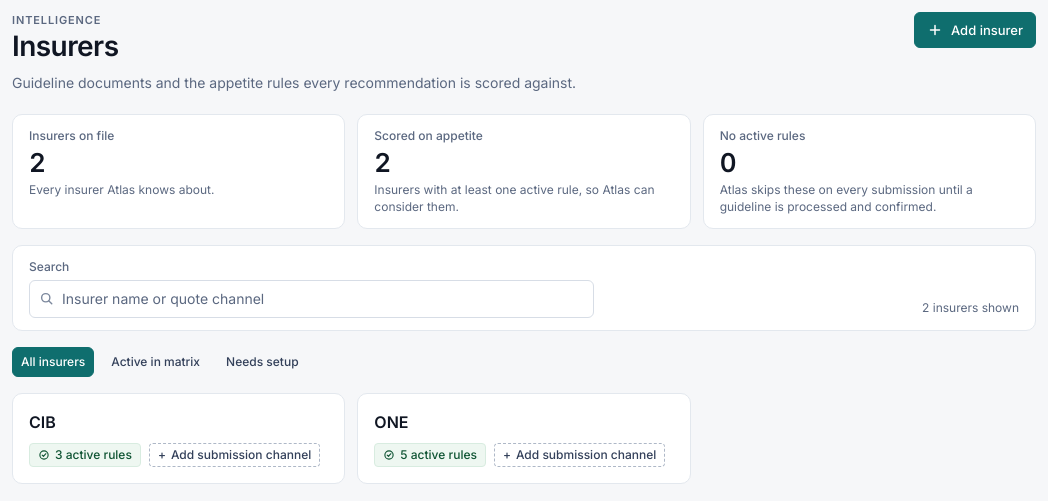
Scenario: Insurer index workbench › composes coverage and search
Check: the text "CIB" is shown, box [29,410,56,435]
Click the button "Active in matrix" at (156, 362), box [102,347,209,377]
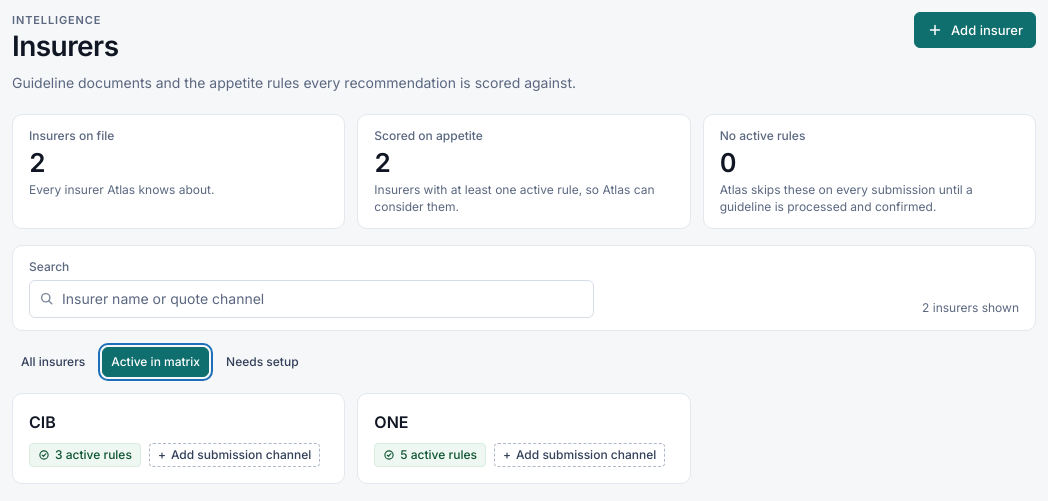
Type "ONE" into the search field named "Search insurers" at (311, 299), box [29,280,594,318]
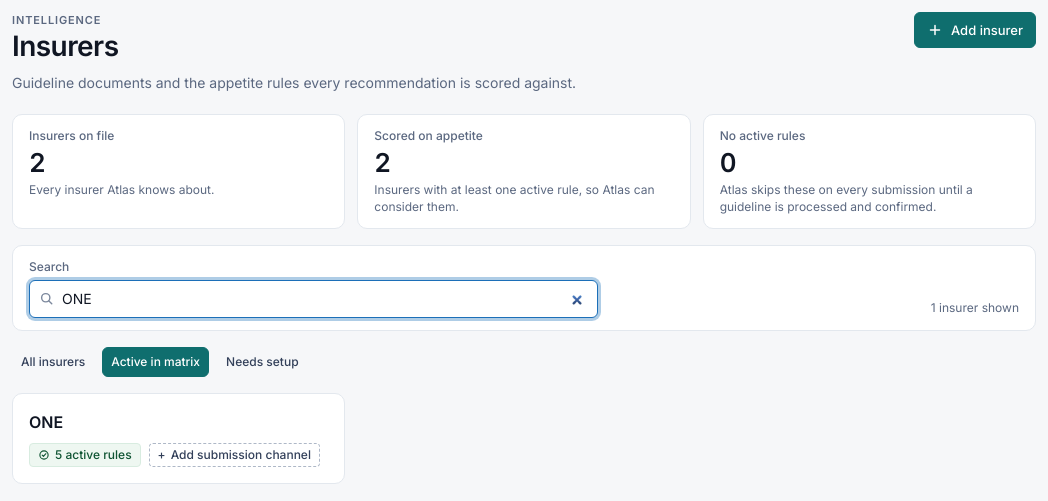
Check: the text "ONE" is shown, box [29,410,63,435]
Check: the button "CIB" is gone
